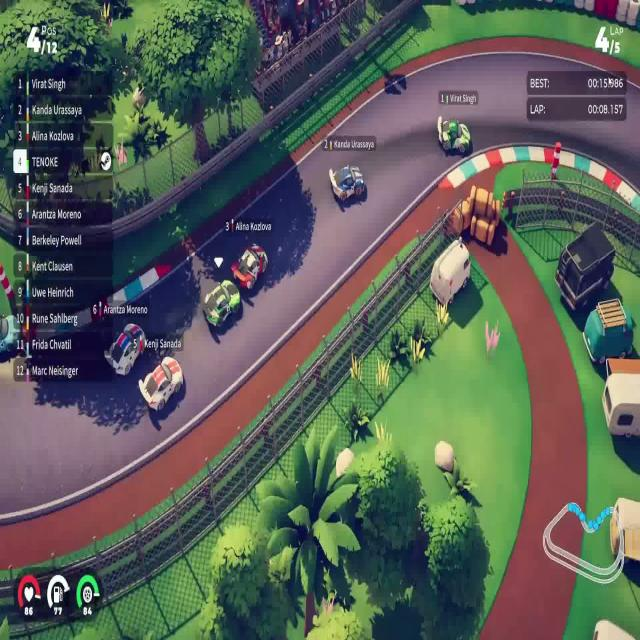car: (138, 354, 184, 413), (103, 322, 146, 377), (202, 278, 240, 329), (230, 240, 268, 290), (328, 162, 365, 204), (436, 114, 471, 156)
